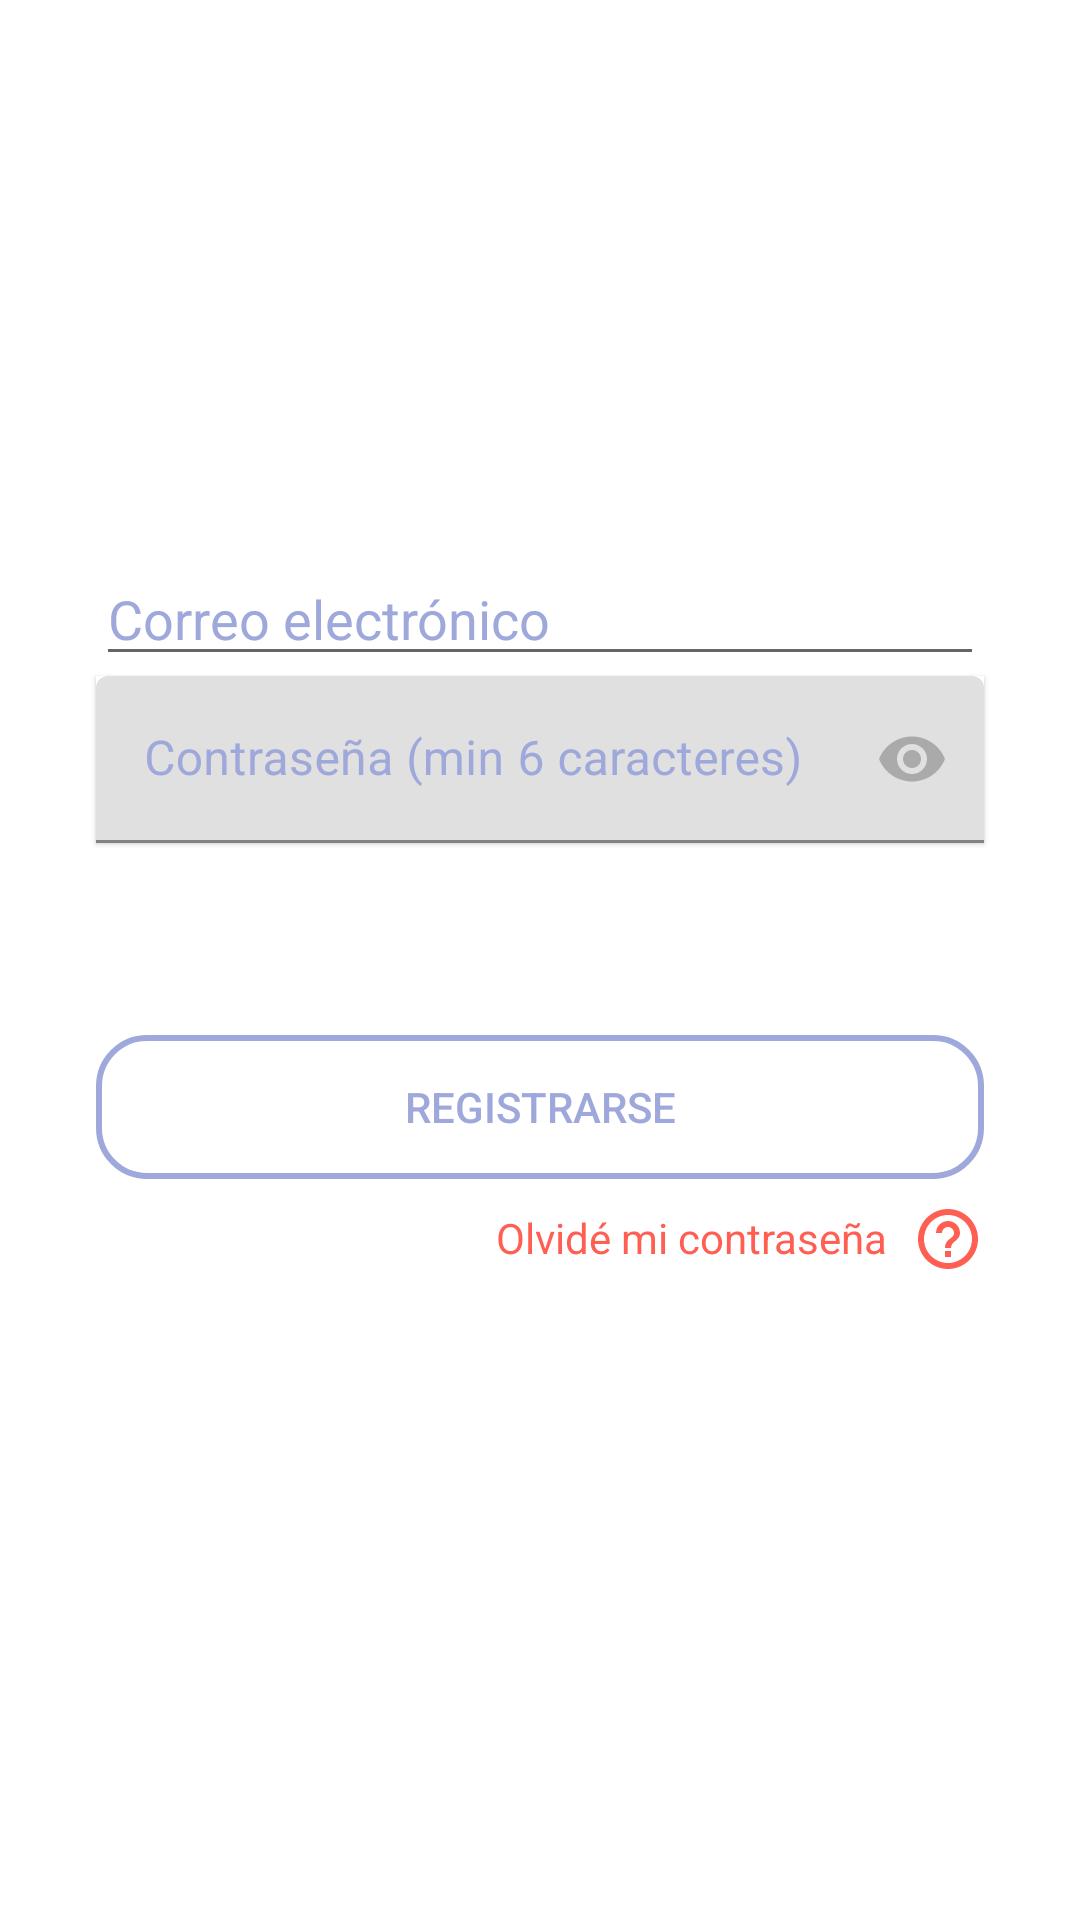

Icon click points for this 1080px x 1920px phone screenshot, format point (x, y):
help: point (948, 1239)
